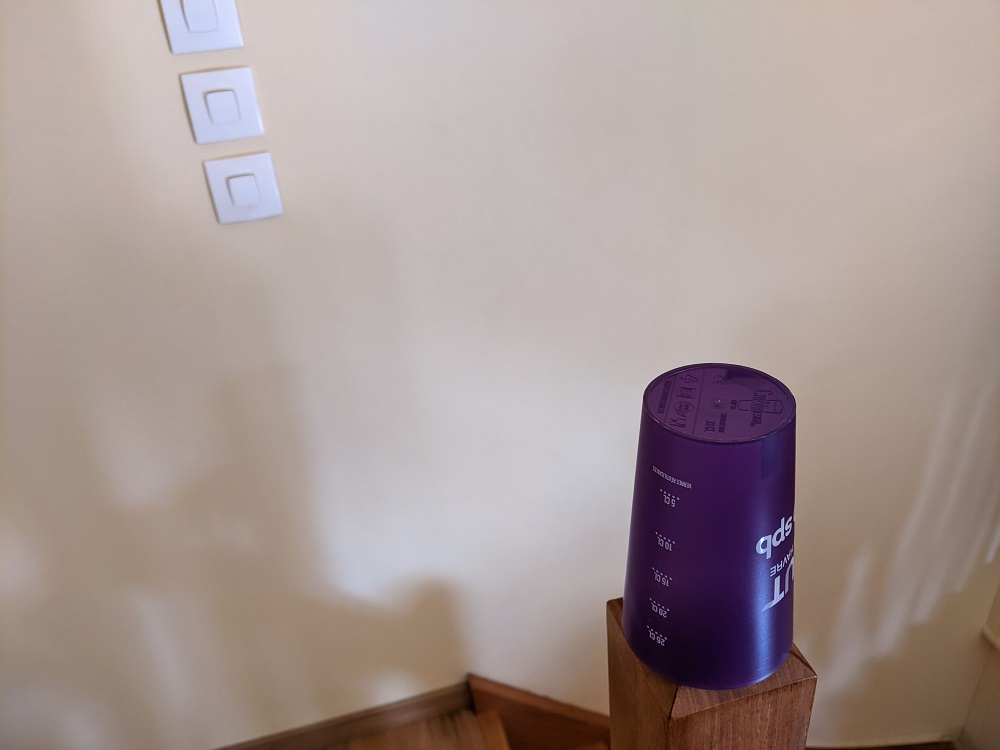ecocup: (622, 363, 796, 690)
